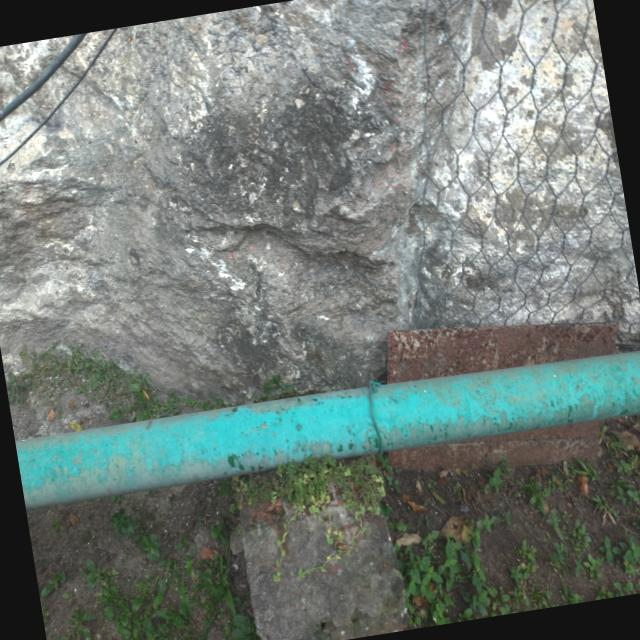gas: (17, 342, 640, 511)
